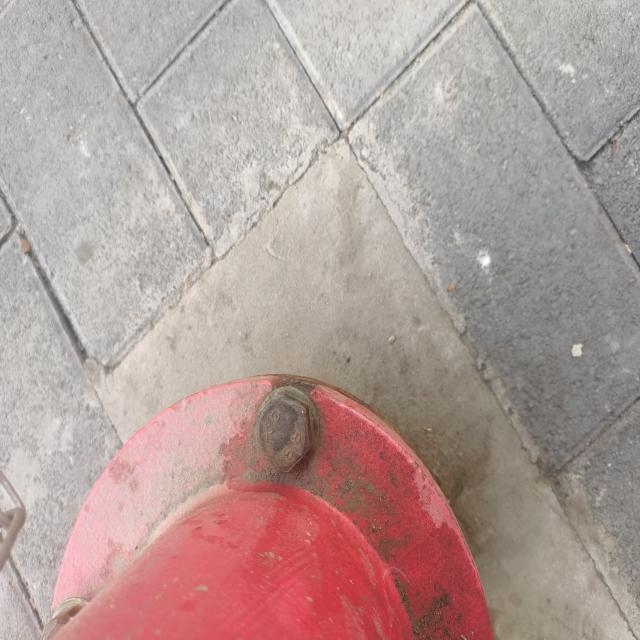bolt head: (250, 388, 314, 476)
